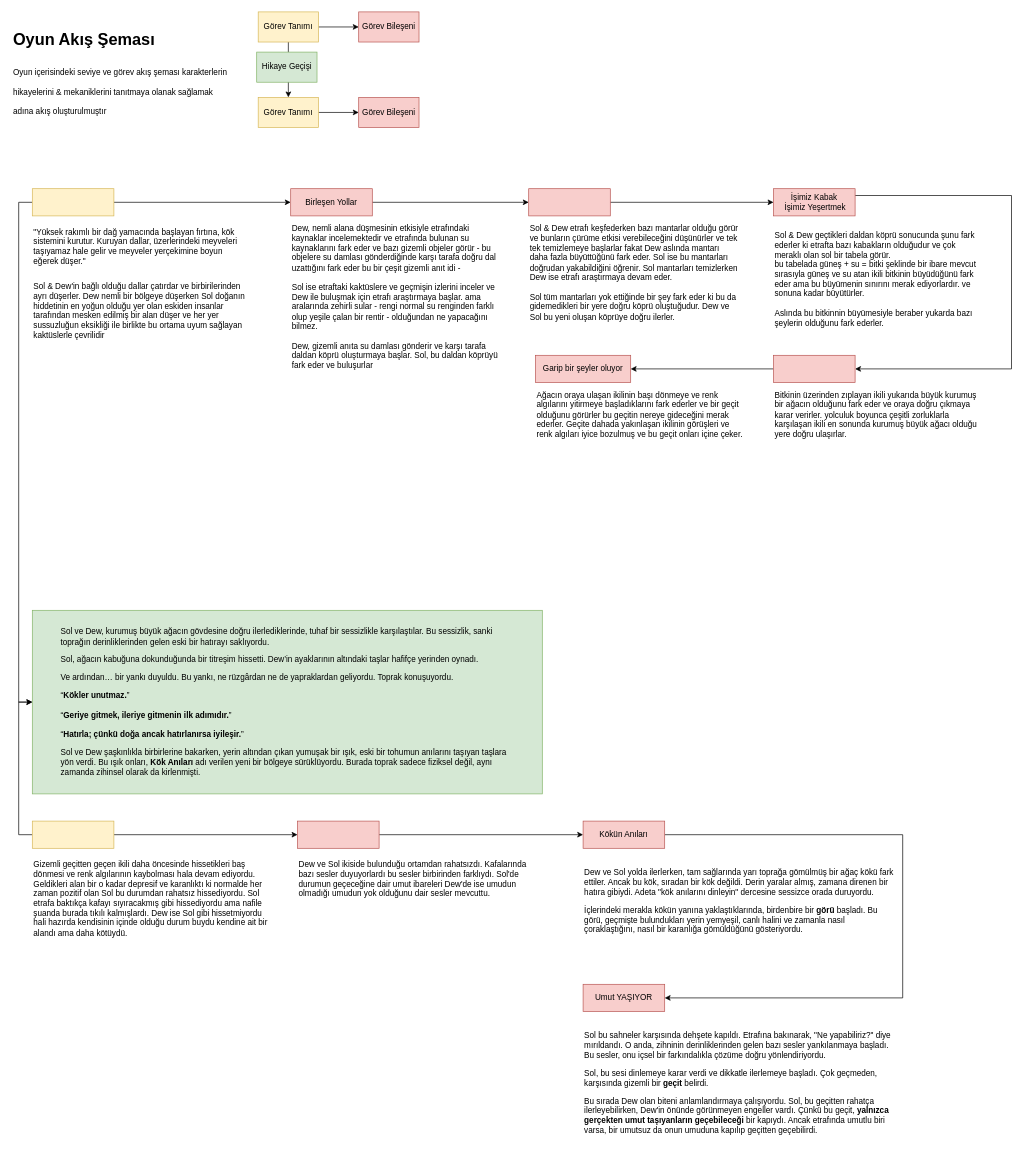
Some shapes in this 1029 by 1166 pixel diagram are drawn without their labels. The shapes that lost their labels are listed below. From the top down, each one's centre as x and y in pixels, then its label:
(73,202): Akıntının Ritmi
(569,202): Mantarlar
(814,368): Kurulmuşlar Bana
(73,834): Kök Yolu Yolculuğu
(338,834): KAFAMDAKİ SESLER
